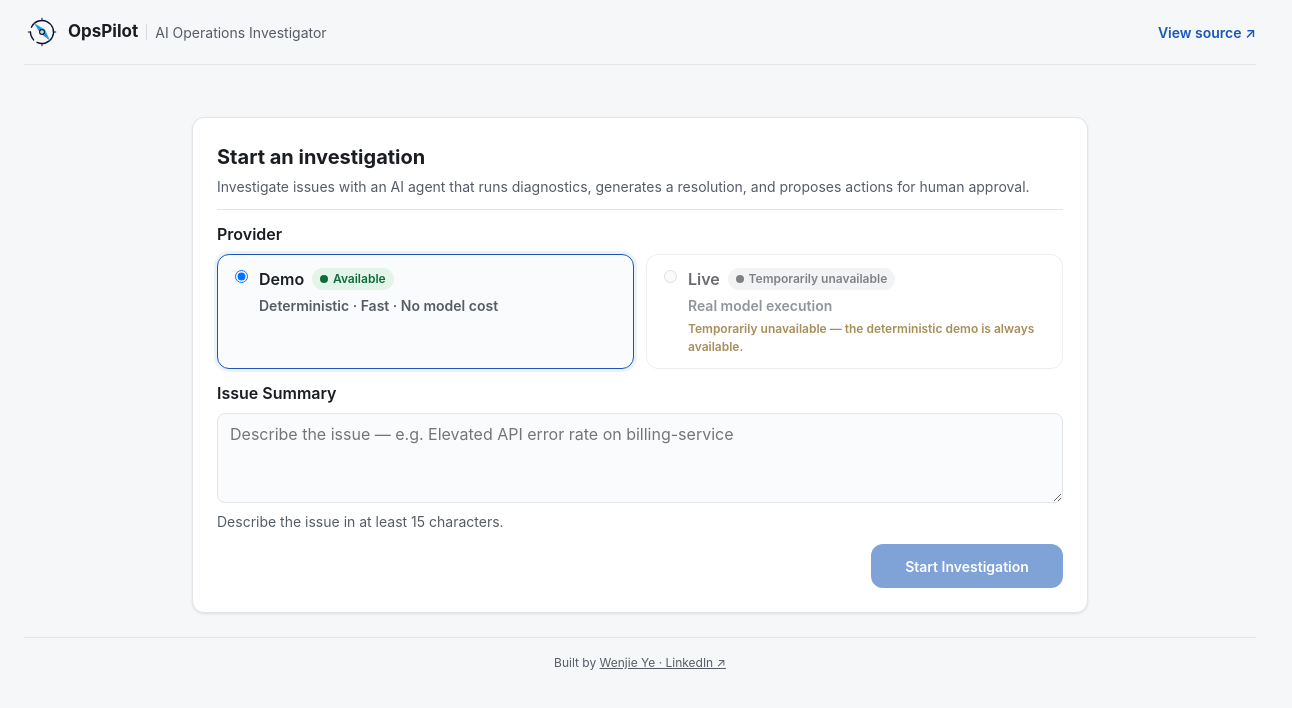
App approval workflow › an approval-demo investigation renders the PENDING decision form
In the text box labelled "Issue Summary": (640, 458) [217,413,1063,503], type "Approval demo issue"
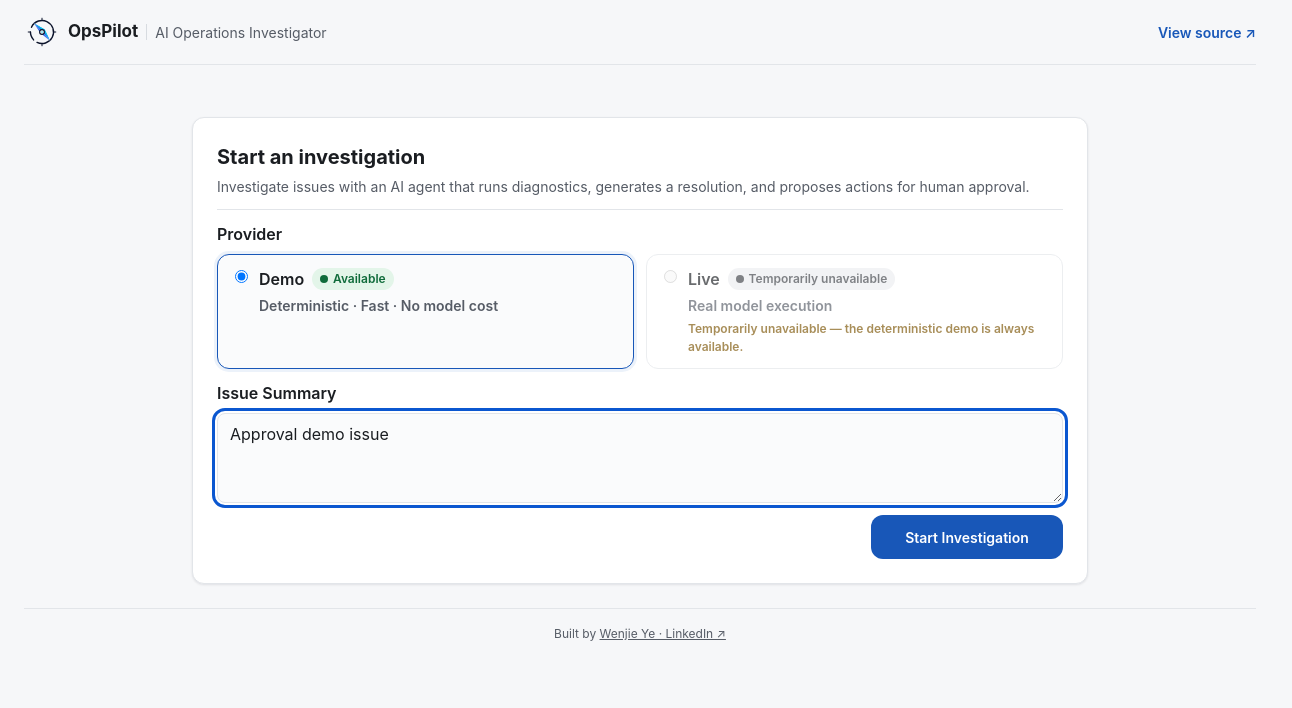
Click the button "Start Investigation": (967, 537) [871,515,1063,559]
(page scrolled)
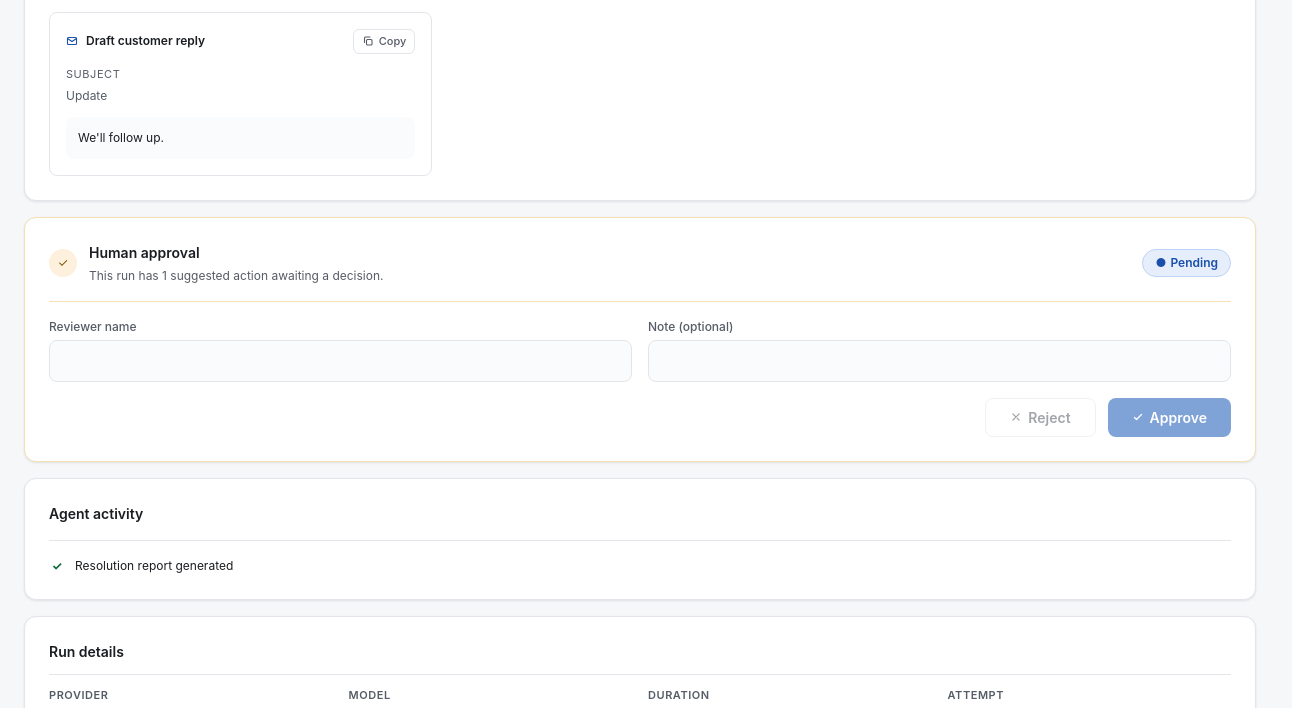
Result: the text "Pending" is shown at [1170,255,1218,270]
Result: the field labelled "Reviewer name" is shown at [49,340,632,382]
